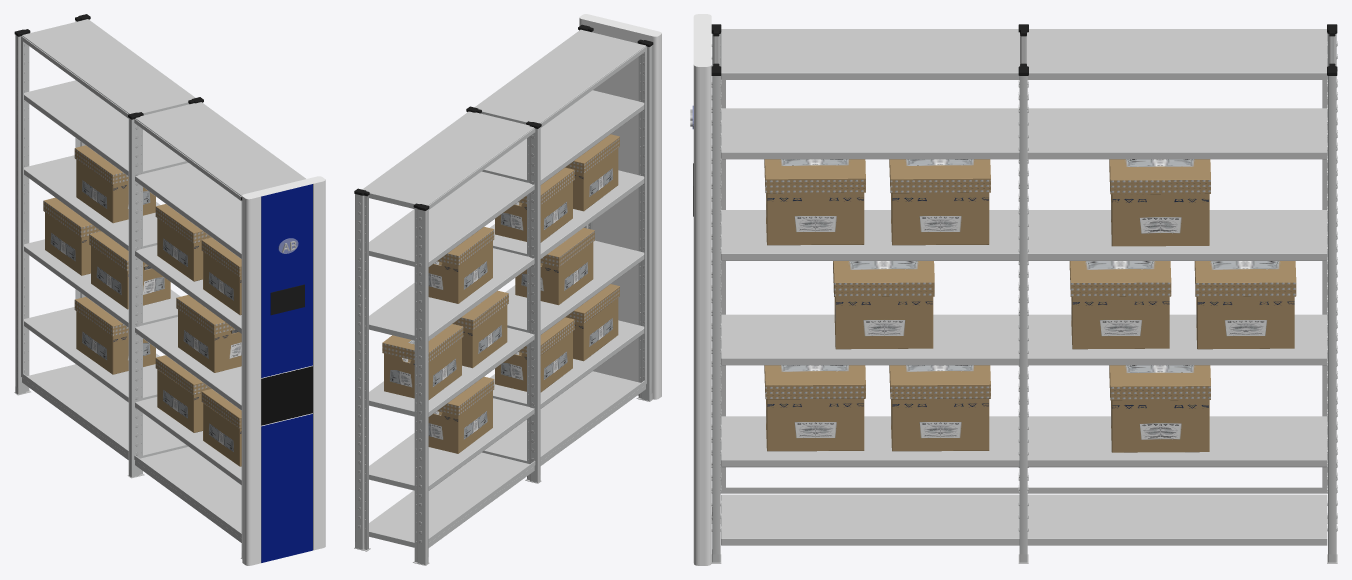
3 renders of one model, left to right at view 1: azimuth 30°, elevation 25°; view 2: azimuth 150°, elevation 25°; view 3: azimuth 270°, elevation 25°, orthographic. The views are drawn at different scales.
Parts seen in each view (by area): view 1: root; view 2: root; view 3: root.
Boxes of the visible parts, x1=… form: root: x1=14, y1=14, x2=325, y2=565; root: x1=354, y1=14, x2=661, y2=565; root: x1=690, y1=14, x2=1337, y2=565.
Bounding box in the file's own units: 0.56 × 2.46 × 2.89.
Materials: 9 (1 with a texture image).
